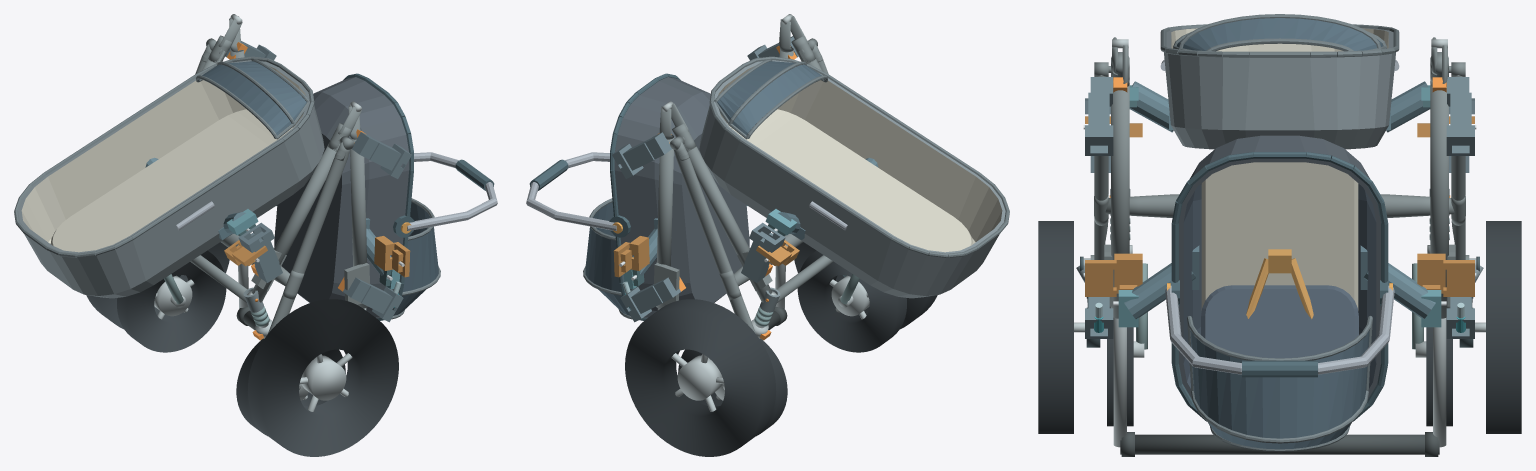
The model's file is D07_w650_state3_wheel_L.glb.
3 renders of one model, left to right at view 1: azimuth 30°, elevation 25°; view 2: azimuth 150°, elevation 25°; view 3: azimuth 270°, elevation 25°, orthographic. The views are drawn at different scales.
Visible parts, largest first — view 1: D07_Lower, D07_Upper, RL_tire.008, FR_tire.008, V46_rear_leg_-1.009, main_lower_-1.009, main_upper_-1.009, RL_sealed_hub.008, Universal_Cabin_Receiver_M_-1, Universal_Cabin_Receiver_L_-1, Universal_Cabin_Receiver_H_-1, FL_tire.008 (+8 smaller); view 2: D07_Lower, D07_Upper, RR_tire.008, FL_tire.008, V46_rear_leg_1.009, main_lower_1.009, main_upper_1.009, RR_sealed_hub.008, Universal_Cabin_Receiver_M_1, Universal_Cabin_Receiver_L_1, Universal_Cabin_Receiver_H_1, FR_tire.008 (+8 smaller); view 3: D07_Upper, D07_Lower, RL_tire.008, RR_tire.008, D07_Upper_Mount_H, round_handle.008, main_upper_1.009, main_upper_-1.009, D07_Lower_Mount_L, V46_rearbar.009, D02_WideAdapter_H_-1, D02_WideAdapter_H_1 (+10 smaller).
Boxes of the visible parts, x1,y1,x2,y2 form: D07_Lower: [14, 56, 324, 298]; D07_Upper: [274, 73, 497, 320]; RL_tire.008: [247, 299, 398, 456]; FR_tire.008: [117, 250, 226, 352]; V46_rear_leg_-1.009: [268, 149, 349, 333]; main_lower_-1.009: [251, 144, 339, 302]; main_upper_-1.009: [349, 137, 367, 308]; RL_sealed_hub.008: [301, 355, 346, 400]; Universal_Cabin_Receiver_M_-1: [352, 132, 411, 178]; Universal_Cabin_Receiver_L_-1: [238, 222, 282, 282]; Universal_Cabin_Receiver_H_-1: [343, 277, 403, 322]; FL_tire.008: [236, 338, 345, 436]; D07_Lower: [699, 56, 1009, 298]; D07_Upper: [526, 73, 749, 320]; RR_tire.008: [625, 299, 776, 456]; FL_tire.008: [797, 250, 906, 352]; V46_rear_leg_1.009: [674, 149, 755, 333]; main_lower_1.009: [684, 144, 772, 302]; main_upper_1.009: [656, 135, 674, 308]; RR_sealed_hub.008: [677, 355, 722, 400]; Universal_Cabin_Receiver_M_1: [612, 132, 671, 178]; Universal_Cabin_Receiver_L_1: [741, 222, 785, 282]; Universal_Cabin_Receiver_H_1: [620, 277, 680, 322]; FR_tire.008: [678, 338, 787, 436]; D07_Upper: [1165, 135, 1394, 452]; D07_Lower: [1160, 14, 1399, 149]; RL_tire.008: [1038, 221, 1073, 433]; RR_tire.008: [1486, 221, 1521, 433]; D07_Upper_Mount_H: [1113, 245, 1446, 327]; round_handle.008: [1120, 434, 1439, 454]; main_upper_1.009: [1430, 85, 1448, 318]; main_upper_-1.009: [1111, 85, 1129, 318]; D07_Lower_Mount_L: [1129, 81, 1430, 132]; V46_rearbar.009: [1105, 194, 1454, 217]; D02_WideAdapter_H_-1: [1083, 253, 1142, 296]; D02_WideAdapter_H_1: [1417, 253, 1476, 296].
Size of the model in its own units: 1.16 by 0.7866 by 0.8171.
